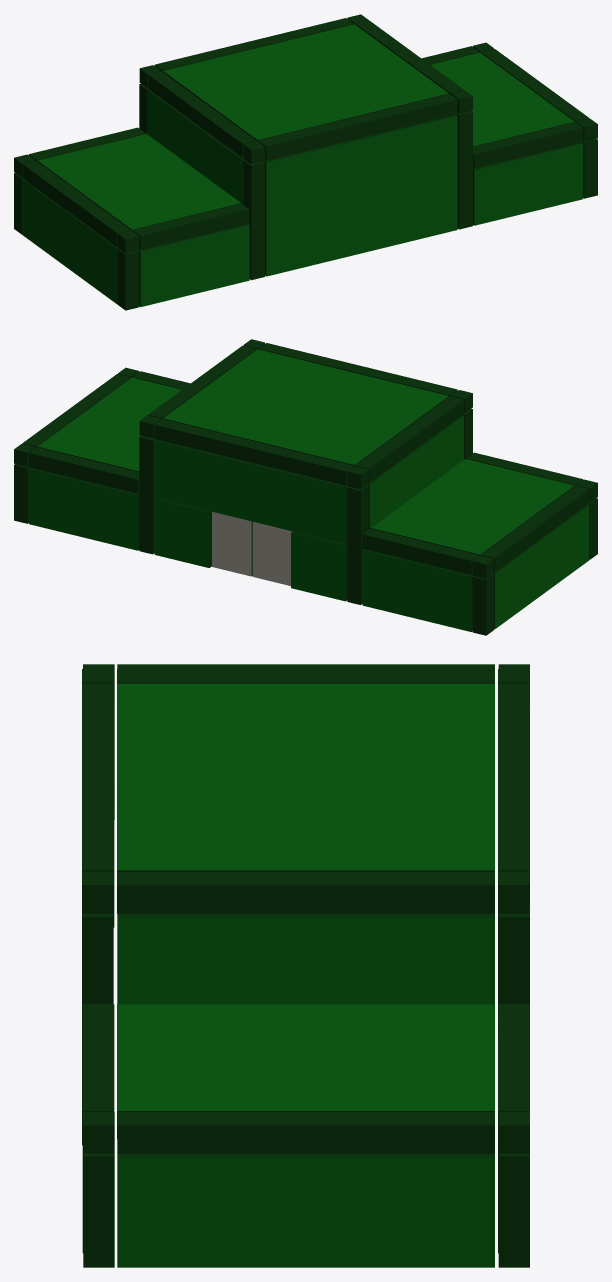
The model's file is SM_Enemy_RD_Facility.glb.
The picture shows the model from 3 angles, top to bottom: view 1: azimuth 30°, elevation 25°; view 2: azimuth 150°, elevation 25°; view 3: azimuth 270°, elevation 25°; orthographic projection. The views are drawn at different scales.
Parts seen in each view (by area): view 1: rd_facility.002; view 2: rd_facility.002; view 3: rd_facility.002.
Boxes of the visible parts, x1=… form: rd_facility.002: x1=14, y1=14, x2=597, y2=310; rd_facility.002: x1=14, y1=339, x2=597, y2=635; rd_facility.002: x1=82, y1=664, x2=529, y2=1267.
Bounding box in the file's own units: 17.32 × 4.56 × 7.11.
Materials: 1 (1 with a texture image).
